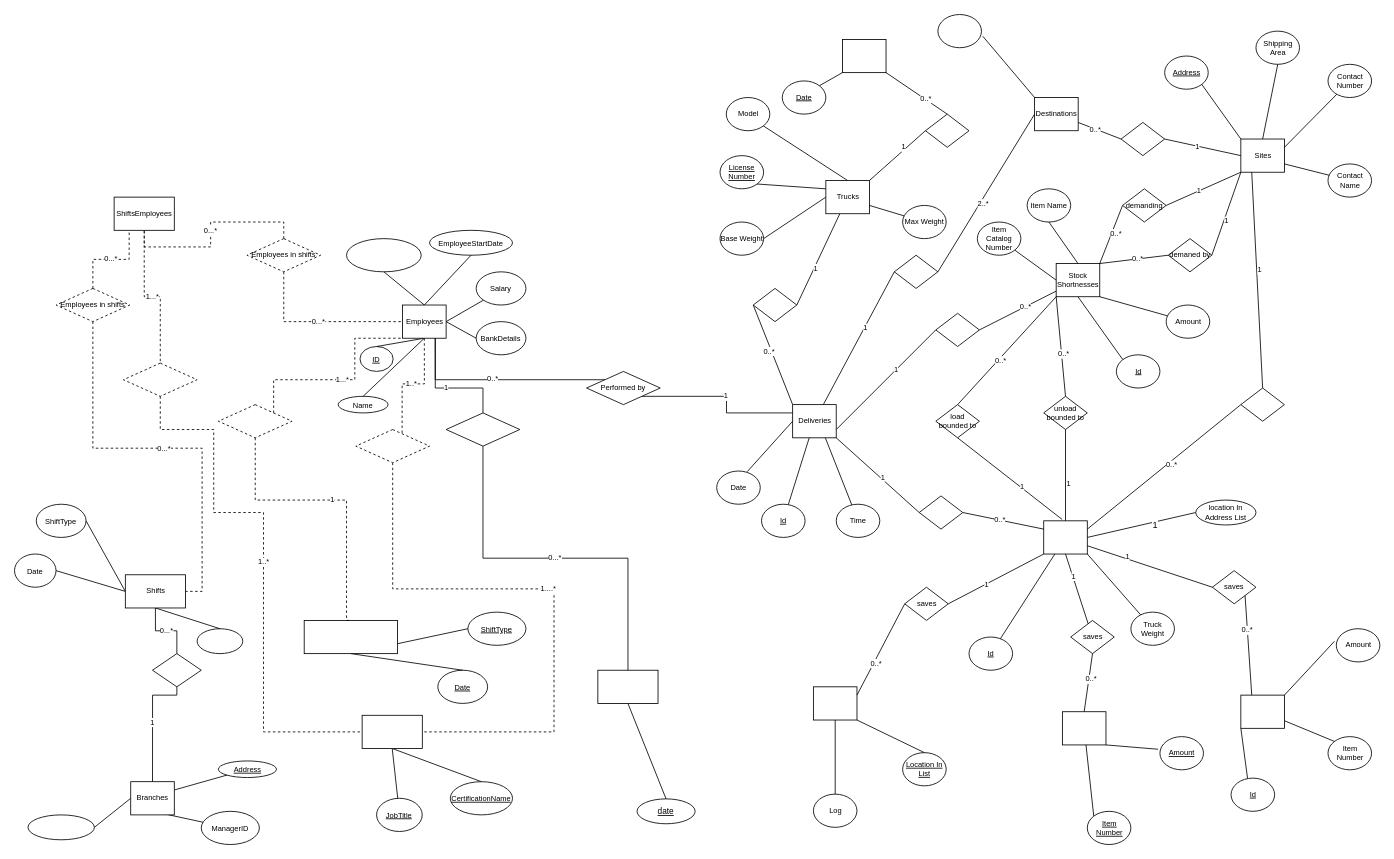
This 1394x859 diagram has some shape labels left out. Here are the shapes that lost their labels. From the top down, the box of each, then its label:
(937, 14, 981, 48): Number List
(842, 39, 886, 73): Trucks Available
(925, 113, 969, 147): available in
(1120, 122, 1165, 156): is in
(346, 238, 421, 272): EmployeeDetails
(893, 254, 938, 288): going to
(752, 288, 797, 322): has a
(935, 312, 979, 347): taken care by
(123, 362, 197, 396): Work as
(218, 404, 292, 438): Has
(1240, 387, 1284, 421): describes a
(355, 429, 430, 463): Can work as
(445, 412, 520, 446): Is Available in
(918, 495, 963, 529): creates
(1043, 520, 1087, 554): Site Documents
(196, 628, 243, 654): ShiftID
(303, 620, 398, 654): EmployeeJobConstraint
(152, 653, 201, 687): Held in
(597, 669, 658, 703): DriverIsAvailable
(813, 686, 857, 720): SIte Document Log
(1240, 694, 1284, 728): Unload Items
(361, 714, 422, 748): JobCertifications
(1062, 711, 1106, 745): Load Items
(27, 814, 94, 840): ShippingArea
